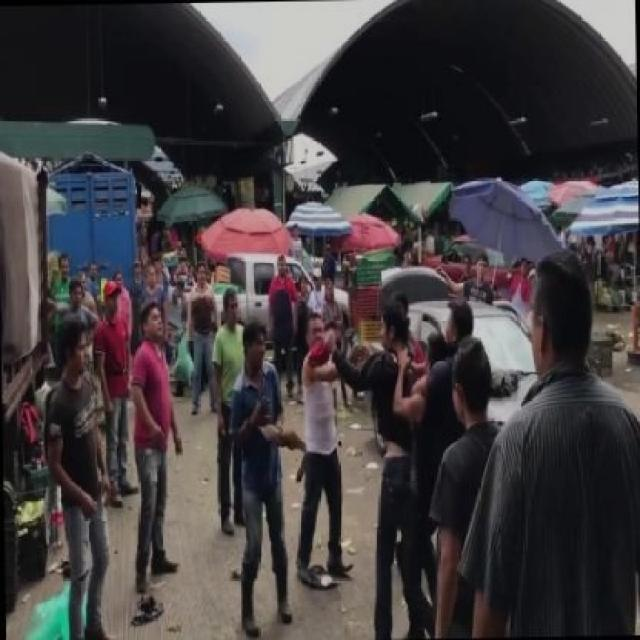fight: (277, 303, 449, 639)
non-fight: (440, 243, 638, 637), (32, 306, 128, 639), (214, 311, 306, 638)
